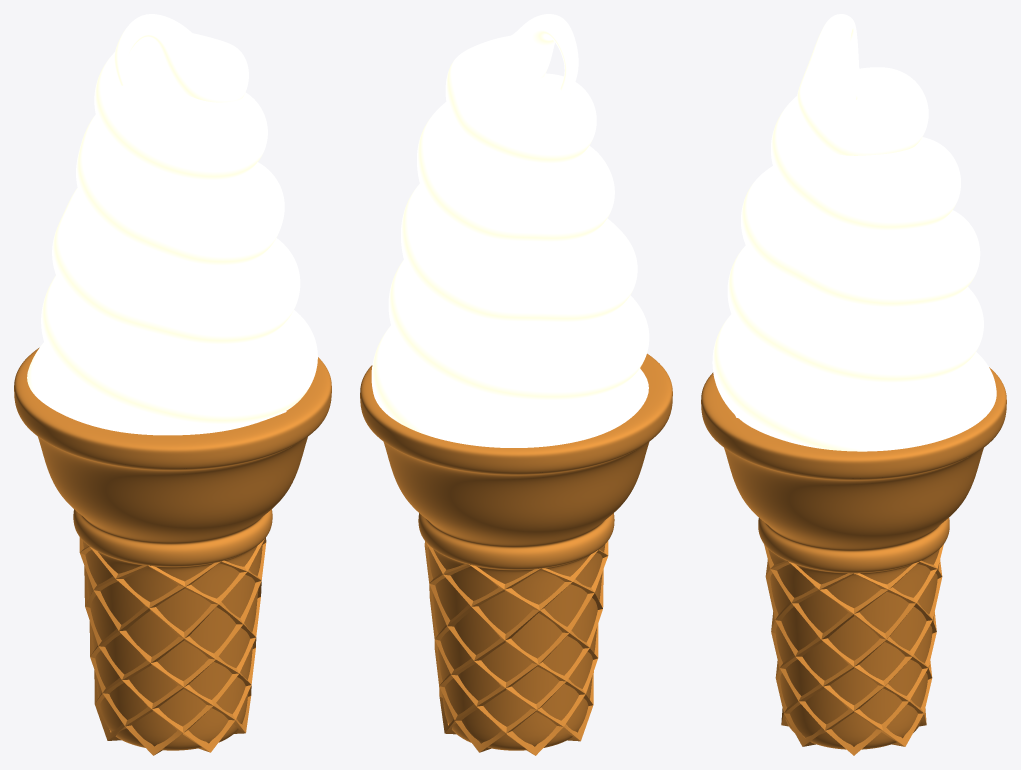
The model's file is soft-serve-ice-cream.glb.
3 views of the same model, side by side, from view 1: azimuth 30°, elevation 25°; view 2: azimuth 150°, elevation 25°; view 3: azimuth 270°, elevation 25° (orthographic). The views are drawn at different scales.
Visible parts, largest first — view 1: Spiral, 円, 円.001; view 2: Spiral, 円, 円.001; view 3: Spiral, 円, 円.001.
Boxes of the visible parts, x1,y1,x2,y2 form: Spiral: [27, 14, 317, 435]; 円: [14, 347, 331, 750]; 円.001: [79, 537, 266, 755]; Spiral: [371, 14, 649, 447]; 円: [360, 353, 672, 750]; 円.001: [424, 541, 608, 755]; Spiral: [712, 14, 996, 451]; 円: [701, 367, 1006, 749]; 円.001: [764, 544, 943, 755].
Bounding box in the file's own units: 1.33 × 3.34 × 1.33.
